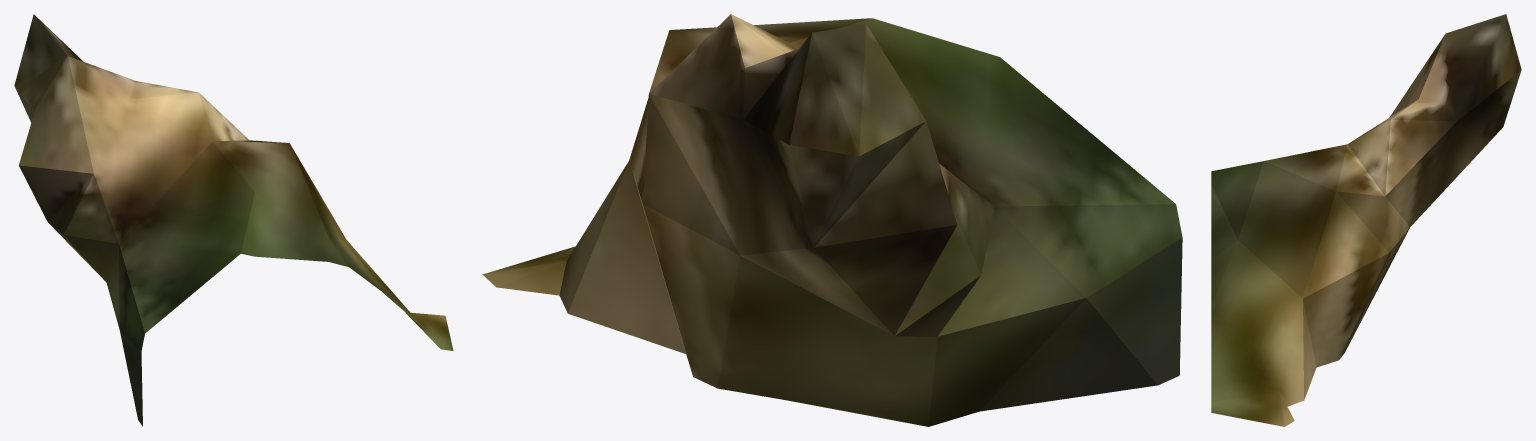
The picture shows the model from 3 angles, left to right: view 1: azimuth 30°, elevation 25°; view 2: azimuth 150°, elevation 25°; view 3: azimuth 270°, elevation 25°; orthographic projection. The views are drawn at different scales.
Size of the model in its own units: 0.1473 by 0.1186 by 0.1211.
Materials: 1 (1 with a texture image).
